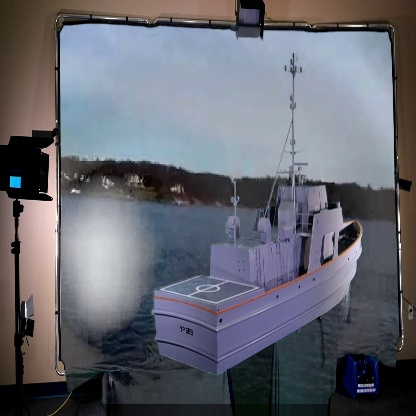YP689: (152, 54, 365, 375)
